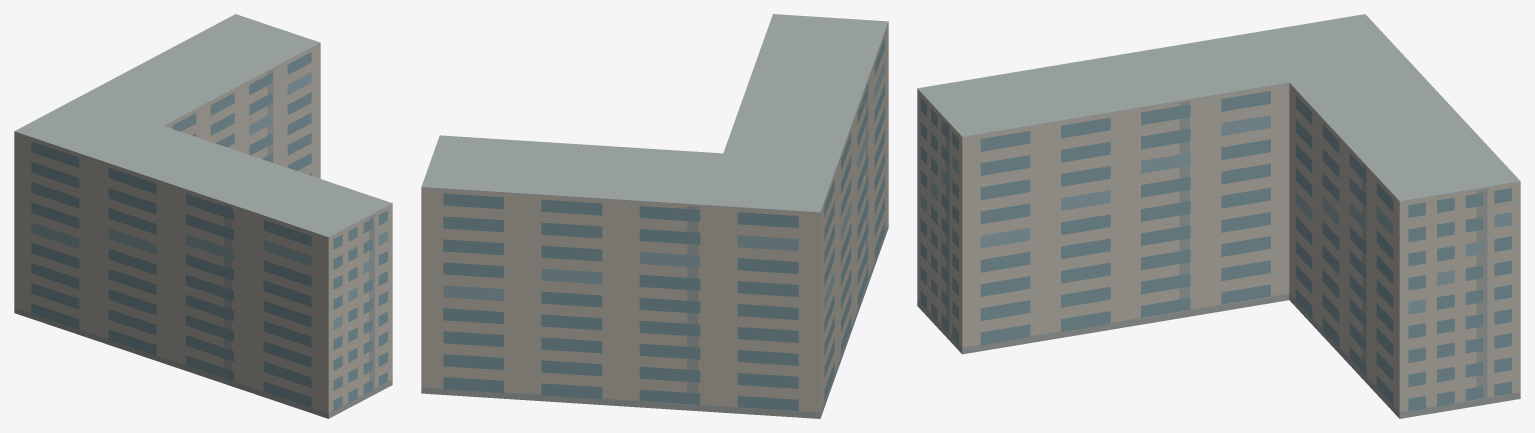
File: residential-ac965831-263e-4703-a1e1-379df87a9e47.glb
3 renders of one model, left to right at view 1: azimuth 30°, elevation 25°; view 2: azimuth 150°, elevation 25°; view 3: azimuth 270°, elevation 25°, orthographic. The views are drawn at different scales.
Parts seen in each view (by area): view 1: residential-ac965831-263e-4703-a1e1-379df87a9e47.tmp; view 2: residential-ac965831-263e-4703-a1e1-379df87a9e47.tmp; view 3: residential-ac965831-263e-4703-a1e1-379df87a9e47.tmp.
Part boxes in pixels (x1,y1,x2,y2): residential-ac965831-263e-4703-a1e1-379df87a9e47.tmp: [14, 14, 392, 418]; residential-ac965831-263e-4703-a1e1-379df87a9e47.tmp: [421, 14, 888, 418]; residential-ac965831-263e-4703-a1e1-379df87a9e47.tmp: [917, 14, 1520, 418].
Size of the model in its own units: 46.15 by 25 by 62.82.
